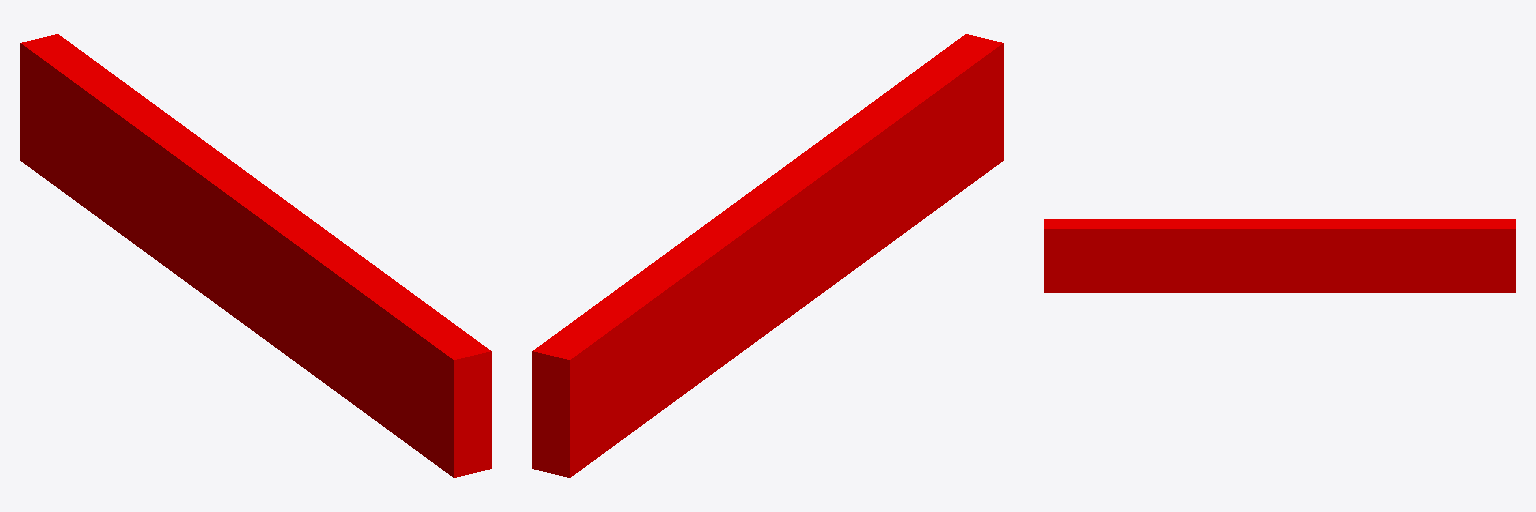
robot.urdf — ball:
<?xml version="0.0" ?>
<robot name="ball">
    <link name="wall">
        <contact>
            <lateral_friction value="1"/>
        </contact>

        <inertial>
            <origin xyz="0 0 0" rpy="0 0 0"/>
            <mass value="0.0"/>
            <inertia ixx="0"  ixy="0"  ixz="0" iyy="0" iyz="0" izz="0" />
        </inertial>

        <visual>
            <origin xyz="0 0 0" rpy="0 0 0" />
            <geometry>
                <box size="0.1 2.0 0.3" />
            </geometry>
            <material name="Red">
                <color rgba="1.0 0.0 0.0 1.0"/>
            </material>
        </visual>

        <collision>
            <origin xyz="0 0 0" rpy="0 0 0"/>
            <geometry>
                <box size="0.1 2.0 0.3" />
            </geometry>
        </collision>
    </link>
</robot>

--- What the picture shows (computed from the rendered views, not written in the file) ---
Views: 3 orthographic renders of the robot side by side, from view 1: azimuth 30°, elevation 25°; view 2: azimuth 150°, elevation 25°; view 3: azimuth 270°, elevation 25°.
Model ball with 1 links and 0 joints (none), rooted at wall, posed every joint at zero.
Links seen in each view (by area): view 1: wall; view 2: wall; view 3: wall.
Boxes of the visible links, x1=… form: wall: x1=20, y1=34, x2=491, y2=477; wall: x1=532, y1=34, x2=1003, y2=477; wall: x1=1044, y1=219, x2=1515, y2=292.
Size in the robot's own frame: 0.1 by 2 by 0.3 metres.
Geometry: primitives only (box / cylinder / sphere), no mesh files.